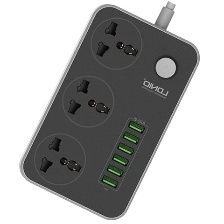three_eye_plug: (16, 1, 202, 221)
